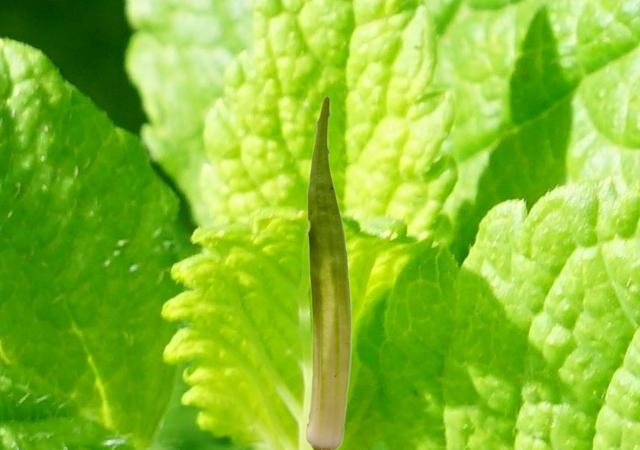okra: (305, 95, 351, 448)
